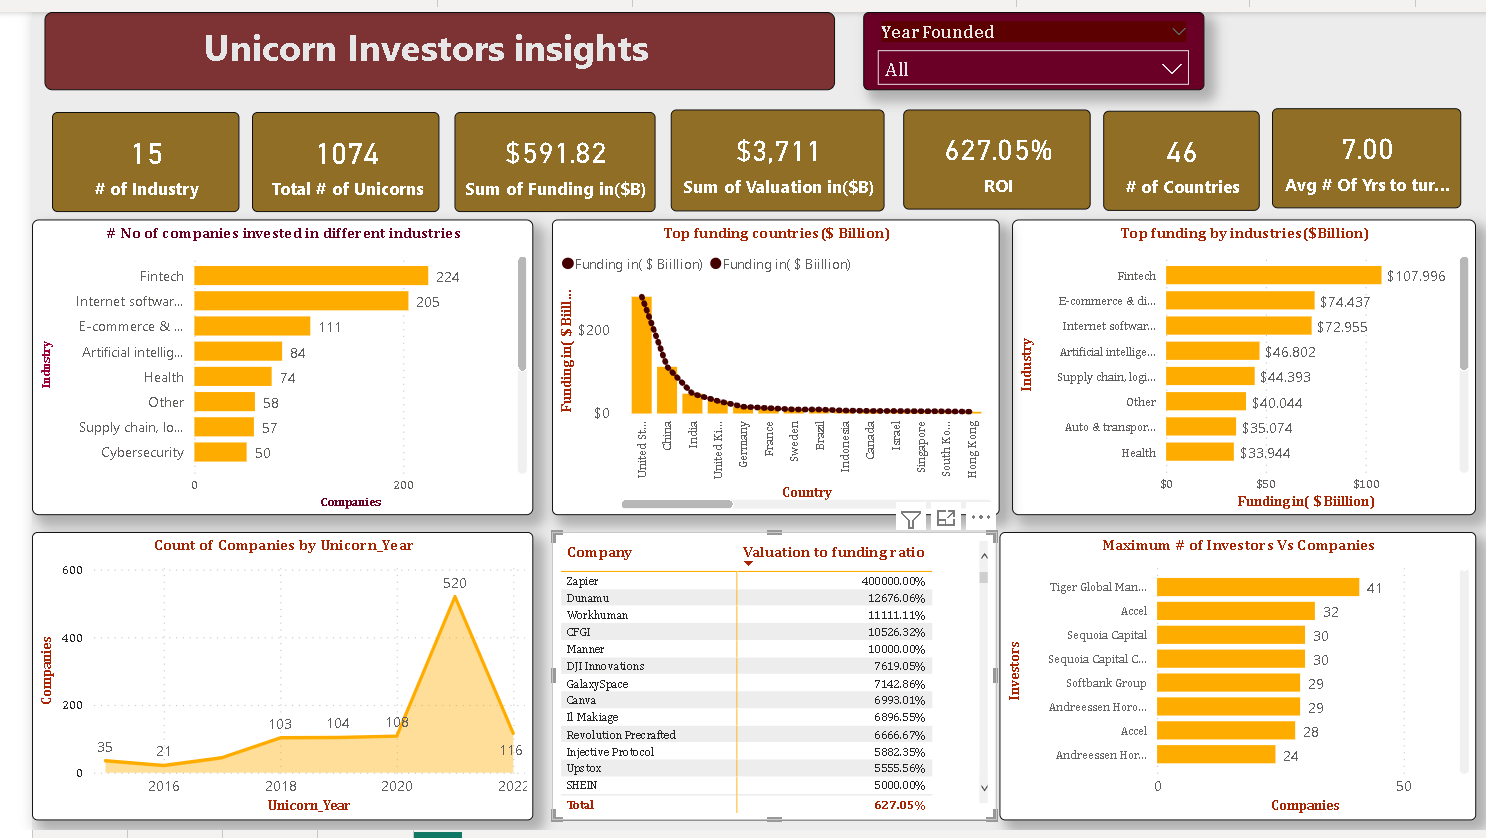

The dashboard page shown, as its layout file describes it:
{"tool":"powerbi","page":{"name":"Page 1","canvas":[1280,720],"ordinal":0},"visuals":[{"type":"textbox","box":[11,0,694.9,68.7],"z":0},{"type":"card","fields":{"Values":["Sum(Unicorn_Companies.Valuation (in $ Billion))"]},"box":[561.5,85.7,188.2,89.3],"z":0,"group":"g1"},{"type":"card","fields":{"Values":["Sum(Unicorn_Companies.Funding in( $ Biillion))"]},"box":[371.9,88.4,177.2,87.9],"z":1000,"group":"g1"},{"type":"barChart","title":"# No of companies invested in different industries","fields":{"Category":["Unicorn_Companies.Industry"],"Y":["CountNonNull(Unicorn_Companies.Company)"]},"box":[0,182.2,441.1,260],"z":1000},{"type":"card","fields":{"Values":["CountNonNull(Unicorn_Companies.Company)"]},"box":[193.4,88.4,164.8,87.9],"z":2000,"group":"g1"},{"type":"group","id":"g1","title":"Group 1","box":[17.6,85.7,1061.6,90.6],"z":2000},{"type":"card","fields":{"Values":["Unicorn_Companies.Valuation to funding ratio"]},"box":[766.1,85.7,164.8,87.9],"z":3000,"group":"g1"},{"type":"areaChart","title":"Count of Companies by Unicorn_Year","fields":{"Category":["Unicorn_Companies.Unicorn_Year"],"Y":["CountNonNull(Unicorn_Companies.Company)"]},"box":[0,457.8,441.1,253.3],"z":3000},{"type":"card","fields":{"Values":["Count(Unicorn_Companies.Country)"]},"box":[941.9,87.1,137.3,87.9],"z":4000,"group":"g1"},{"type":"card","fields":{"Values":["Avg(Unicorn_Companies.No of Years)"]},"box":[1090.5,85.2,166.2,87.9],"z":4000},{"type":"card","fields":{"Values":["Count(Unicorn_Companies.Industry)"]},"box":[17.6,88.4,164.8,87.9],"z":5000,"group":"g1"},{"type":"clusteredBarChart","title":"Top funding by industries($Billion)","fields":{"Category":["Unicorn_Companies.Industry"],"Y":["Sum(Unicorn_Companies.Funding in( $ Biillion))"]},"box":[862.2,182.2,407.8,260],"z":5000},{"type":"lineClusteredColumnComboChart","title":"Top funding countries($ Billion)","fields":{"Category":["Unicorn_Companies.Country"],"Y":["Sum(Unicorn_Companies.Funding in( $ Biillion))"],"Y2":["Sum(Unicorn_Companies.Funding in( $ Biillion))"]},"box":[457.8,182.2,393.3,260],"z":6000},{"type":"pivotTable","fields":{"Values":["Unicorn_Companies.Valuation to funding ratio"],"Rows":["Unicorn_Companies.Company"]},"box":[457.8,457.8,391.1,253.3],"z":7000},{"type":"barChart","title":"Maximum # of Investors Vs  Companies","fields":{"Y":["CountNonNull(Investors Data.Company)"],"Category":["Investors Data.Select Investors"]},"box":[851.1,457.8,418.9,253.3],"z":8000},{"type":"slicer","fields":{"Values":["Unicorn_Companies.Year Founded"]},"box":[731.4,0,299.7,68.7],"z":9000}]}

Visuals, with their boxes in screenshot pixels (x1, y1, x2, y2), scaled from the page's 1280x720 canvas onto the 1486x838 screenshot:
textbox: <box>13,0,820,80</box>
card - Sum(Unicorn_Companies.Valuation (in $ Billion)): <box>652,100,870,204</box>
card - Sum(Unicorn_Companies.Funding in( $ Biillion)): <box>432,103,637,205</box>
"# No of companies invested in different industries" barChart: <box>0,212,512,515</box>
card - CountNonNull(Unicorn_Companies.Company): <box>225,103,416,205</box>
"Group 1" group: <box>20,100,1253,205</box>
card - Unicorn_Companies.Valuation to funding ratio: <box>889,100,1081,202</box>
"Count of Companies by Unicorn_Year" areaChart: <box>0,533,512,828</box>
card - Count(Unicorn_Companies.Country): <box>1093,101,1253,204</box>
card - Avg(Unicorn_Companies.No of Years): <box>1266,99,1459,201</box>
card - Count(Unicorn_Companies.Industry): <box>20,103,212,205</box>
"Top funding by industries($Billion)" clusteredBarChart: <box>1001,212,1474,515</box>
"Top funding countries($ Billion)" lineClusteredColumnComboChart: <box>531,212,988,515</box>
pivotTable - Unicorn_Companies.Valuation to funding ratio x Unicorn_Companies.Company: <box>531,533,986,828</box>
"Maximum # of Investors Vs  Companies" barChart: <box>988,533,1474,828</box>
slicer - Unicorn_Companies.Year Founded: <box>849,0,1197,80</box>
